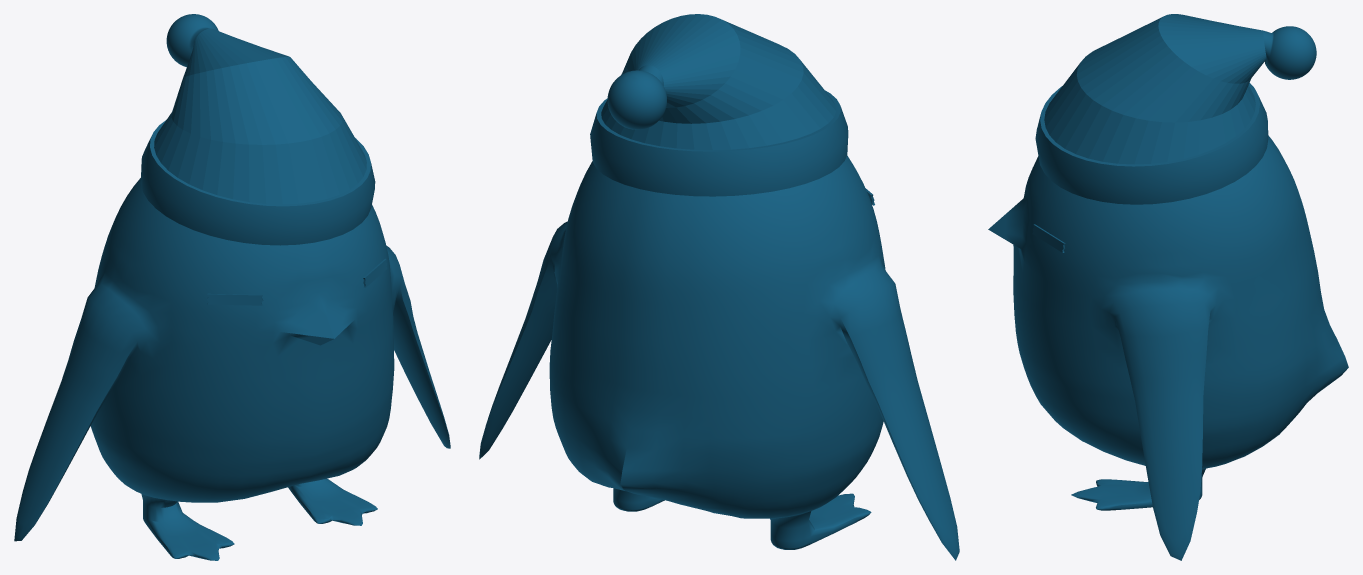
The model's file is penguin_blue_idle_38f.fbx.
3 renders of one model, left to right at view 1: azimuth 30°, elevation 25°; view 2: azimuth 150°, elevation 25°; view 3: azimuth 270°, elevation 25°, orthographic. The views are drawn at different scales.
Visible parts, largest first — view 1: ppp_38, bousi, ai; view 2: ppp_38, bousi; view 3: ppp_38, bousi.
Part boxes in pixels (left/top/right/bottom): ppp_38: left=14, top=178, right=450, bottom=560; bousi: left=140, top=14, right=375, bottom=245; ai: left=207, top=258, right=387, bottom=305; ppp_38: left=479, top=155, right=959, bottom=560; bousi: left=590, top=14, right=848, bottom=196; ppp_38: left=988, top=135, right=1348, bottom=560; bousi: left=1035, top=14, right=1316, bottom=204.
Bounding box in the file's own units: 20.24 × 20.1 × 14.74.
Materials: 1 (1 with a texture image).
